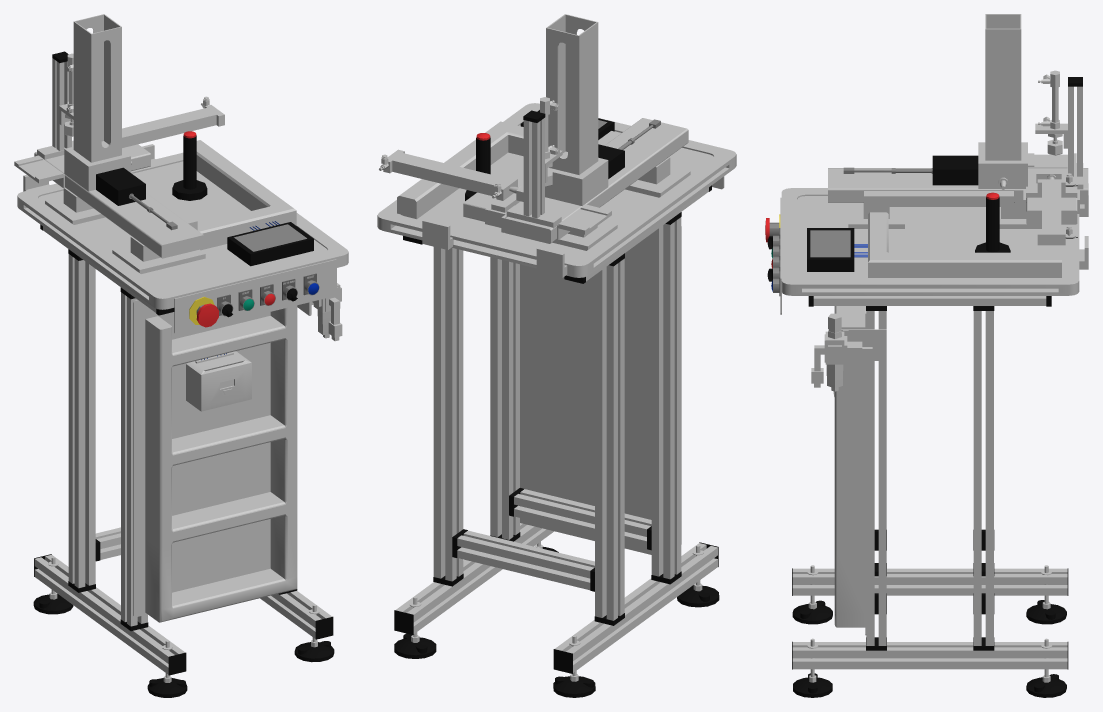
File: Smc_06.fbx
3 views of the same model, side by side, from view 1: azimuth 30°, elevation 25°; view 2: azimuth 150°, elevation 25°; view 3: azimuth 270°, elevation 25° (orthographic). The views are drawn at different scales.
Visible parts, largest first — view 1: Barre_Front_LW, Strutture_Barre_01_LW, PiastraGrande_LW, Barre04_LW, Piastra_01_LW, Highlight_04_LW, Top_LW, Tubo01_LW, Plastica_LW, Highlight_05_LW, Highlight_02_LW, Scatola2_LW (+3 smaller); view 2: Strutture_Barre_01_LW, PiastraGrande_LW, Barre04_LW, Highlight_04_LW, Piastra_01_LW, Plastica_LW, Top_LW, Tubo01_LW, Cilindro1_LW_2, Scatola2_LW; view 3: Strutture_Barre_01_LW, Barre04_LW, Barre_Front_LW, Top_LW, Piastra_01_LW, Highlight_04_LW, Tubo01_LW, Plastica_LW, Highlight_02_LW, Scatola2_LW, Cilindro1_LW_2, Piedino_Metallo_LW (+1 smaller).
Part boxes in pixels (x1,y1,x2,y2): Barre_Front_LW: (145,305,297,622); Strutture_Barre_01_LW: (34,58,342,674); PiastraGrande_LW: (133,300,270,617); Barre04_LW: (14,53,224,273); Piastra_01_LW: (17,152,348,334); Highlight_04_LW: (64,14,131,191); Top_LW: (38,161,327,290); Tubo01_LW: (196,140,296,250); Plastica_LW: (33,51,334,697); Highlight_05_LW: (186,351,251,411); Highlight_02_LW: (227,222,313,266); Scatola2_LW: (96,167,145,205); Strutture_Barre_01_LW: (395,118,717,672); PiastraGrande_LW: (520,234,651,554); Barre04_LW: (379,97,690,277); Highlight_04_LW: (545,14,608,205); Piastra_01_LW: (377,103,736,277); Plastica_LW: (394,110,719,697); Top_LW: (417,125,713,256); Tubo01_LW: (397,121,523,219); Cilindro1_LW_2: (465,137,490,200); Scatola2_LW: (598,144,624,178); Strutture_Barre_01_LW: (792,86,1082,669); Barre04_LW: (828,70,1088,269); Barre_Front_LW: (834,306,865,627); Top_LW: (797,196,1063,277); Piastra_01_LW: (780,188,1079,314); Highlight_04_LW: (978,14,1027,189); Tubo01_LW: (868,212,1061,277); Plastica_LW: (792,77,1082,697); Highlight_02_LW: (807,228,854,271); Scatola2_LW: (932,155,978,185); Cilindro1_LW_2: (975,197,1010,252); Piedino_Metallo_LW: (807,565,1052,682).
Bounding box in the file's own units: 478 × 1310 × 634.
Materials: 18 (1 with a texture image).
